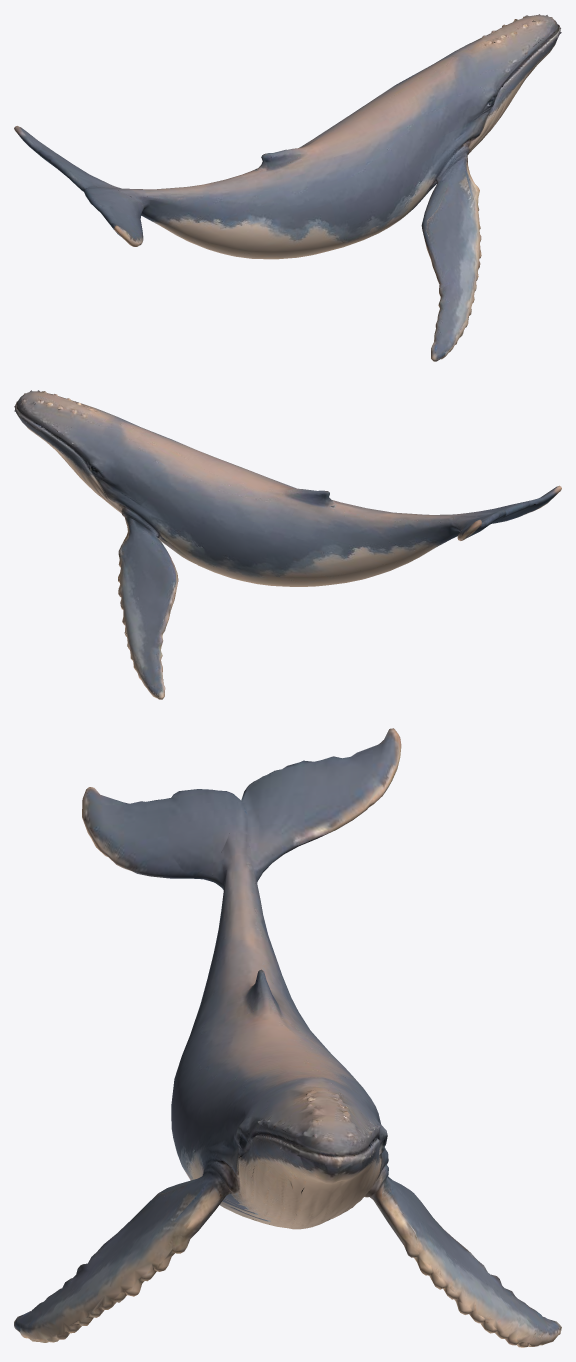
File: whale.glb
3 views of the same model, one above another, from view 1: azimuth 30°, elevation 25°; view 2: azimuth 150°, elevation 25°; view 3: azimuth 270°, elevation 25° (orthographic). The views are drawn at different scales.
Visible parts, largest first — view 1: node_0.001; view 2: node_0.001; view 3: node_0.001.
Boxes of the visible parts, bbox=[...] form: node_0.001: bbox=[14, 14, 561, 361]; node_0.001: bbox=[14, 390, 561, 699]; node_0.001: bbox=[14, 728, 561, 1347].
Bounding box in the file's own units: 2.75 × 1.16 × 1.54.
1 material, 1 textured.
